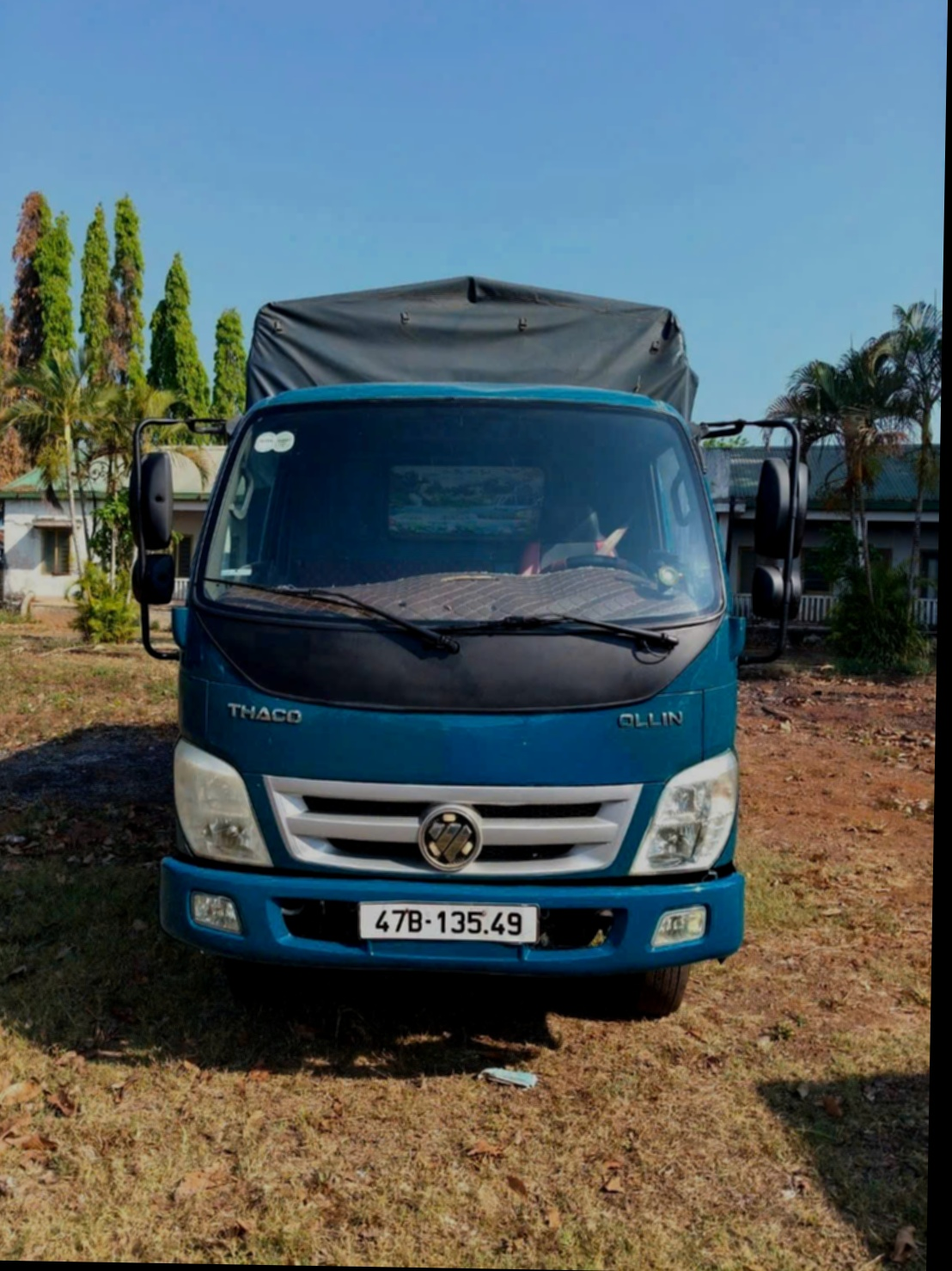Bien-so: (374, 928, 555, 978)
